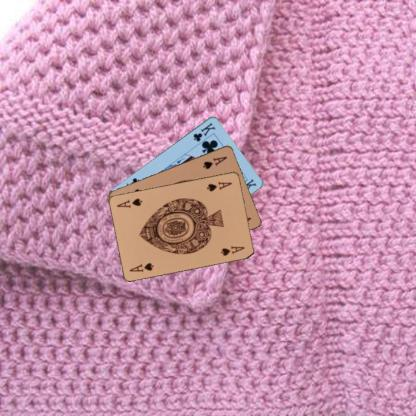As: (201, 154, 228, 170), (204, 178, 233, 192), (127, 260, 155, 273)
Kc: (190, 119, 216, 142)
